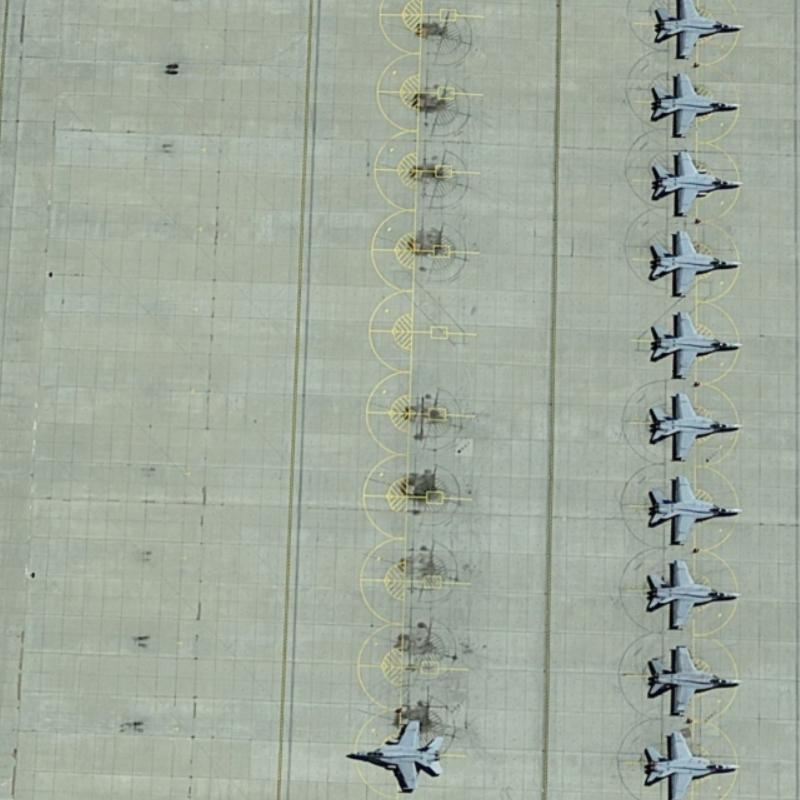A16: (343, 715, 445, 794), (640, 556, 744, 632), (641, 642, 742, 720), (644, 471, 744, 547), (644, 388, 744, 464), (638, 727, 742, 799), (645, 306, 743, 381), (647, 147, 745, 219), (645, 227, 742, 299), (646, 69, 742, 140), (647, 0, 745, 62)
